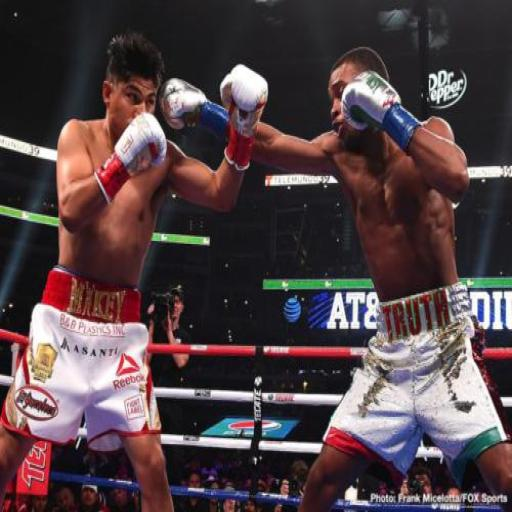boxing: (159, 46, 511, 510), (0, 29, 268, 510)
